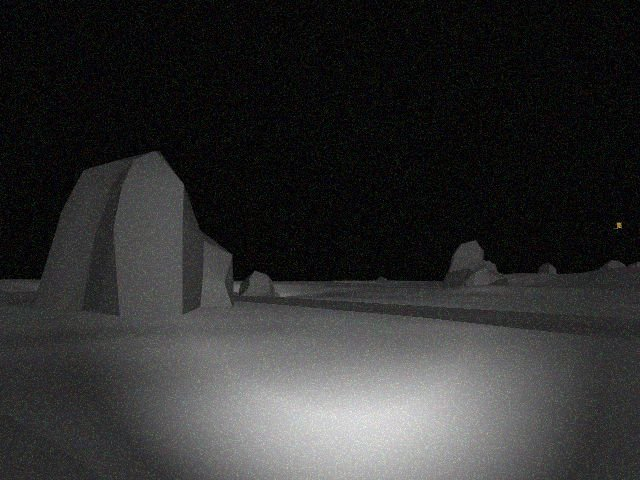cubesat: (614, 219, 625, 231)
